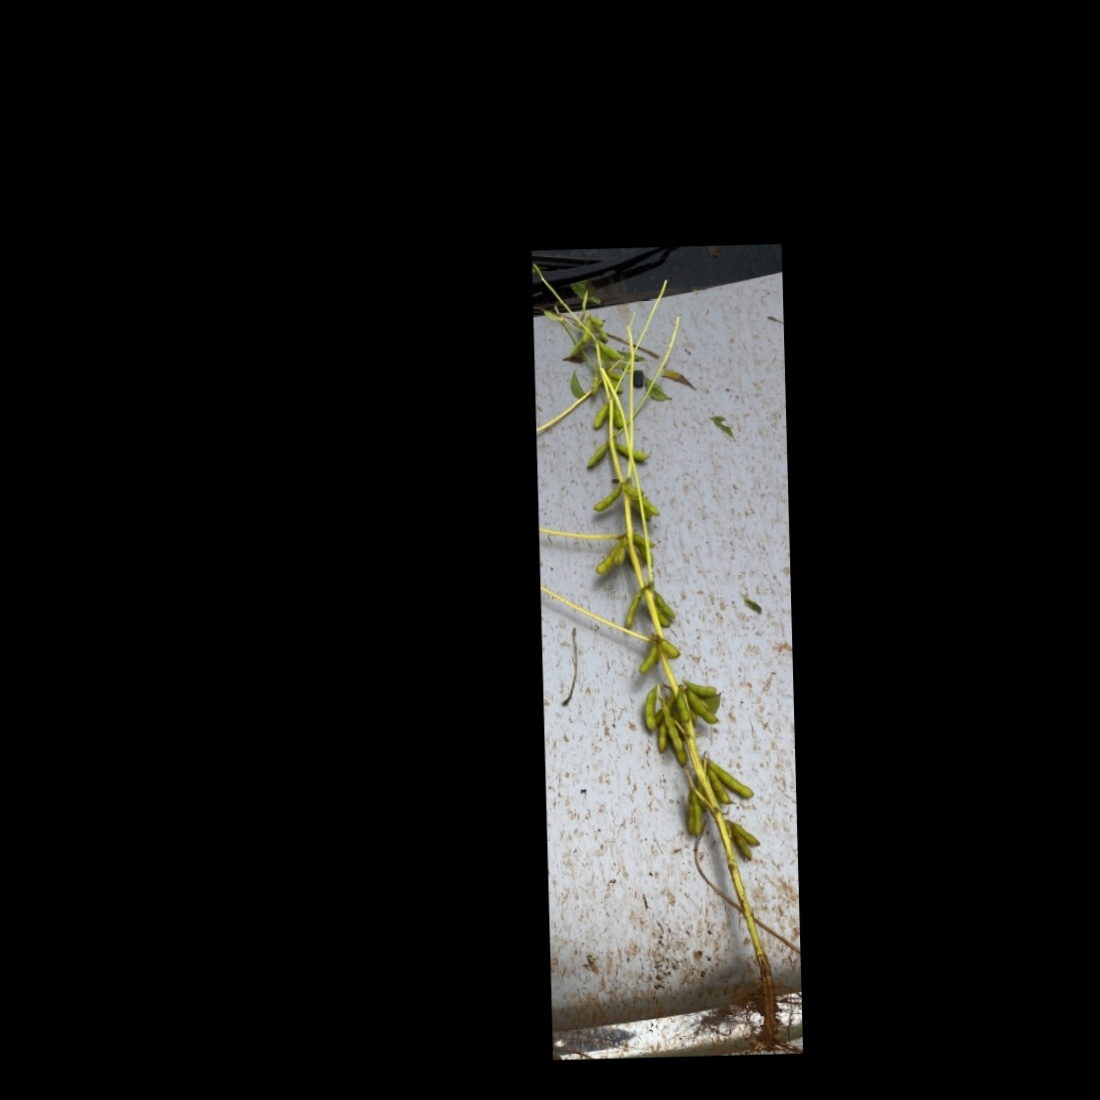pod: (590, 483, 624, 516), (610, 438, 652, 464), (585, 437, 612, 472), (622, 589, 644, 632), (636, 691, 658, 730), (584, 399, 609, 433), (638, 639, 660, 675), (671, 690, 693, 726), (646, 605, 673, 631)
soy: (541, 286, 782, 977)
